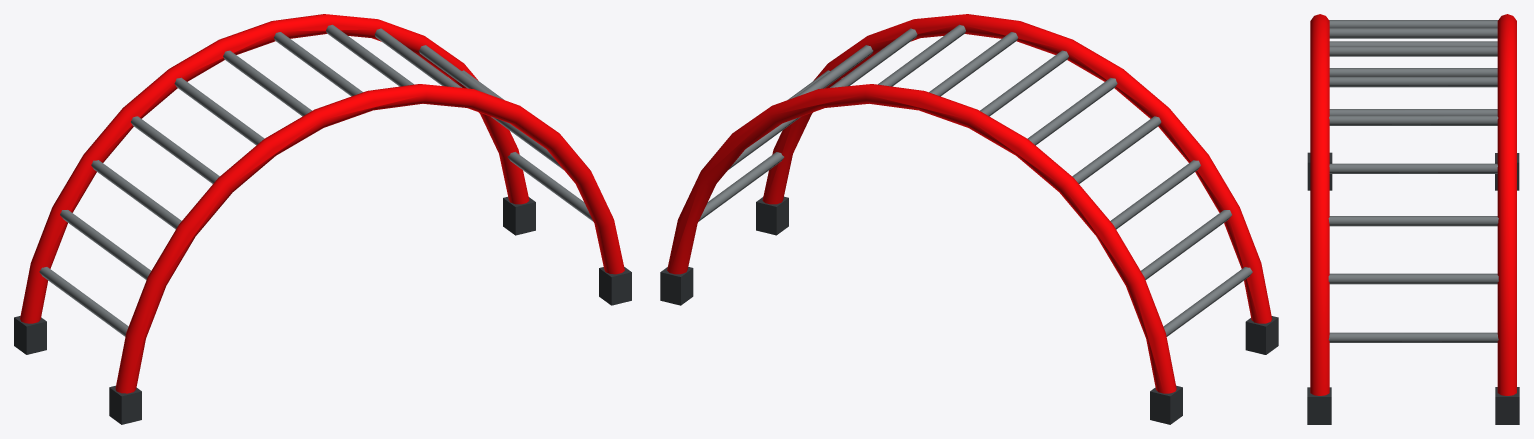
File: SM_Game_Stairs_01.fbx
3 views of the same model, side by side, from view 1: azimuth 30°, elevation 25°; view 2: azimuth 150°, elevation 25°; view 3: azimuth 270°, elevation 25° (orthographic).
Parts seen in each view (by area): view 1: SM_Game_Stairs_01; view 2: SM_Game_Stairs_01; view 3: SM_Game_Stairs_01.
Boxes of the visible parts, x1,y1,x2,y2 form: SM_Game_Stairs_01: (14,14,631,424); SM_Game_Stairs_01: (660,14,1278,424); SM_Game_Stairs_01: (1307,14,1519,424).
Size of the model in its own units: 260 by 130 by 95.55.
1 material, 1 textured.
